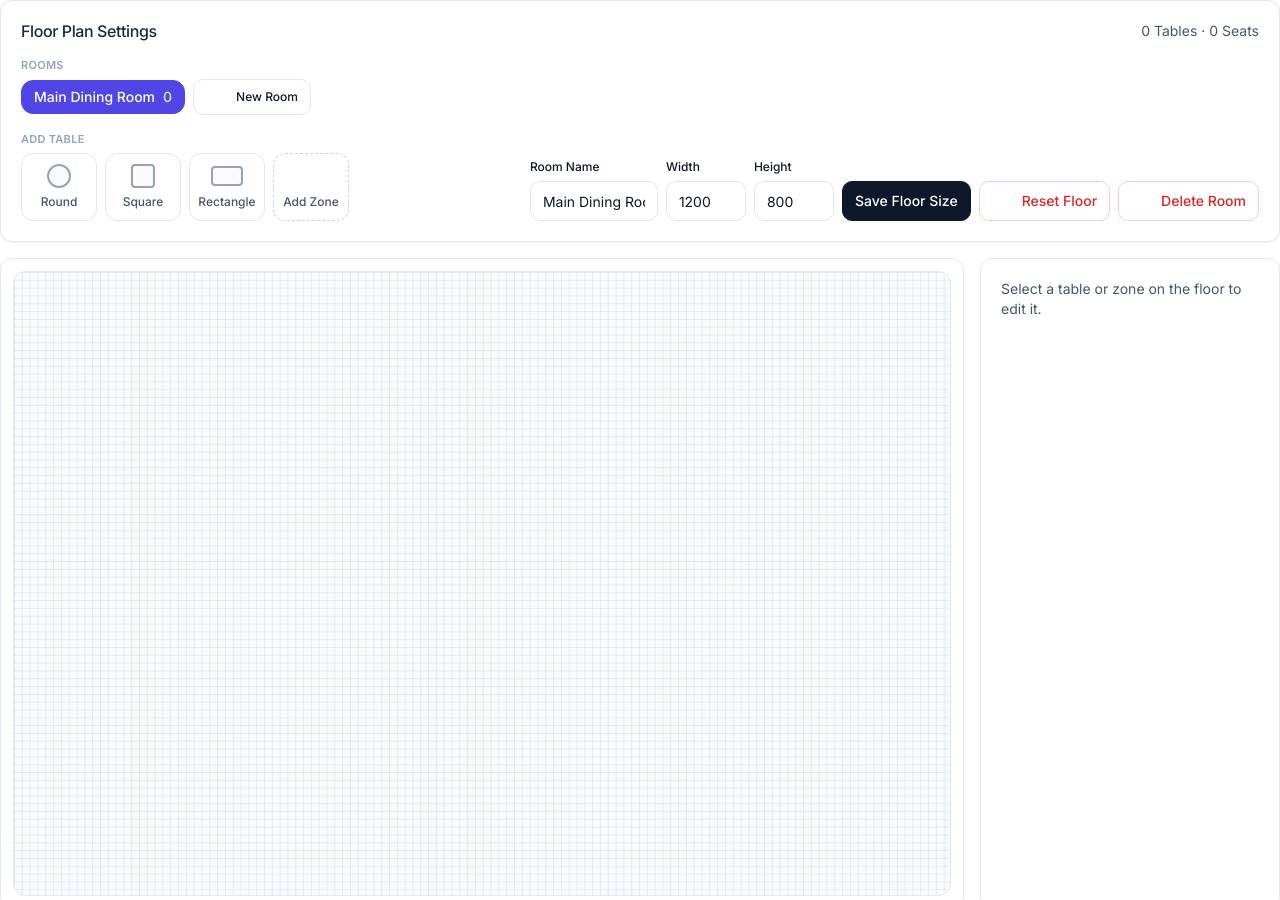
it: zones › adds a zone to the active room
This screenshot has width=1280, height=900.
Click the button "Add Zone" at point(311, 187), box [273,153,349,221]
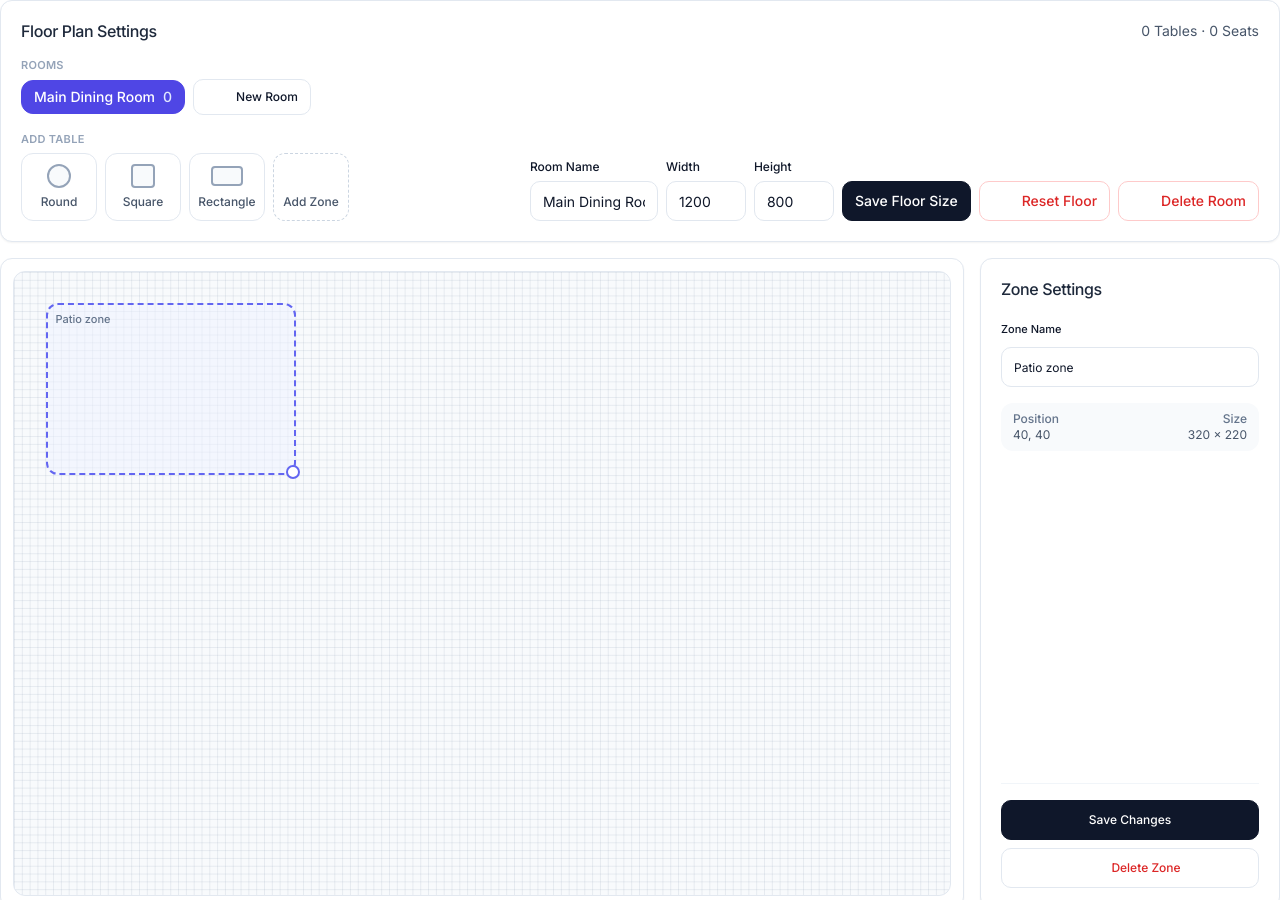
Now the button with test id "zone-node-Patio zone" is shown, box [46,303,296,475]
